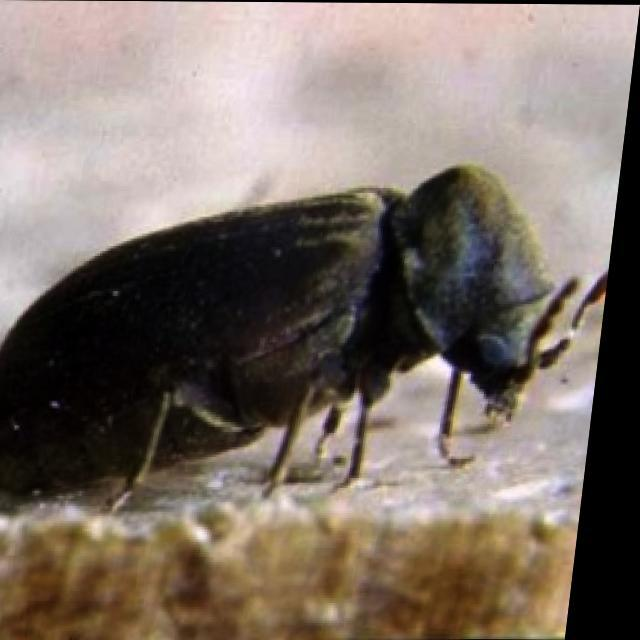cockroach: (2, 159, 607, 514)
